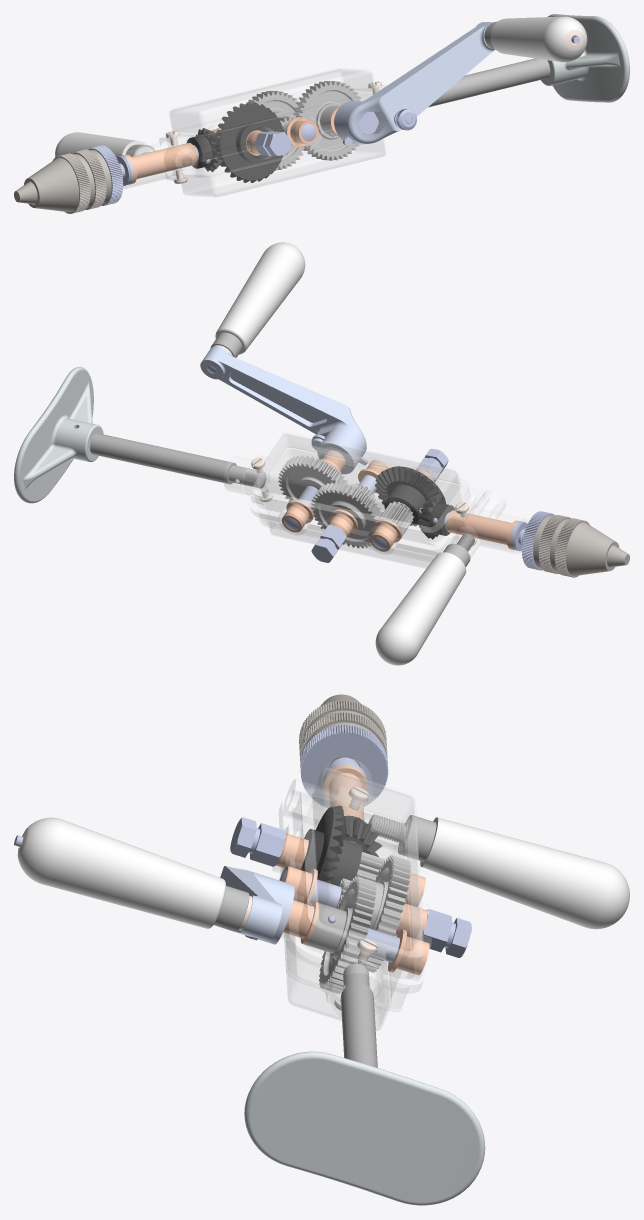
File: furadeira.glb
The picture shows the model from 3 angles, top to bottom: view 1: azimuth 30°, elevation 25°; view 2: azimuth 150°, elevation 25°; view 3: azimuth 270°, elevation 25°; orthographic projection. The views are drawn at different scales.
Parts seen in each view (by area): view 1: CORPO DE ALUMINIO-1, TAMPA-2, BRAÇO DA MANIVELA-1, ENCOSTO-1, TAMPA-1, CAPA DO MANDRIL-1, COROA Z 30-1, CABO DE MANIVELA-1, ENGREN MAIOR MOD 1 Z 43 a-1, HASTE DE APOIO-1, BUCHA DE MANDRIL-3, CABO DE SUSTENTAÇÃO-2 (+8 smaller); view 2: TAMPA-2, CORPO DE ALUMINIO-1, ENCOSTO-1, BRAÇO DA MANIVELA-1, CABO DE SUSTENTAÇÃO-2, CABO DE MANIVELA-1, CAPA DO MANDRIL-1, HASTE DE APOIO-1, TAMPA-1, ENGREN MENOR MOD 1 Z 43 a-1, COROA Z 30-1, ENGREN MAIOR MOD 1 Z 43 a-1 (+8 smaller); view 3: ENCOSTO-1, TAMPA-2, CORPO DE ALUMINIO-1, CABO DE SUSTENTAÇÃO-2, CABO DE MANIVELA-1, ENGREN MAIOR MOD 1 Z 43 a-1, CORPO ROSCADO-1, TAMPA-1, BRAÇO DA MANIVELA-1, HASTE DE APOIO-1, COROA Z 30-1, ENGREN MENOR MOD 1 Z 43 a-1 (+13 smaller).
Boxes of the visible parts, <box> form: CORPO DE ALUMINIO-1: <box>115,87,383,188</box>; TAMPA-2: <box>160,68,385,139</box>; BRAÇO DA MANIVELA-1: <box>334,22,494,143</box>; ENCOSTO-1: <box>541,14,629,102</box>; TAMPA-1: <box>167,139,385,196</box>; CAPA DO MANDRIL-1: <box>24,149,111,213</box>; COROA Z 30-1: <box>214,102,284,182</box>; CABO DE MANIVELA-1: <box>490,16,587,62</box>; ENGREN MAIOR MOD 1 Z 43 a-1: <box>293,81,361,160</box>; HASTE DE APOIO-1: <box>428,58,550,107</box>; BUCHA DE MANDRIL-3: <box>123,142,197,184</box>; CABO DE SUSTENTAÇÃO-2: <box>55,132,153,157</box>; TAMPA-2: <box>246,433,474,532</box>; CORPO DE ALUMINIO-1: <box>224,448,527,560</box>; ENCOSTO-1: <box>14,366,103,503</box>; BRAÇO DA MANIVELA-1: <box>200,346,366,474</box>; CABO DE SUSTENTAÇÃO-2: <box>375,552,466,665</box>; CABO DE MANIVELA-1: <box>215,242,305,354</box>; CAPA DO MANDRIL-1: <box>533,515,619,577</box>; HASTE DE APOIO-1: <box>90,433,266,488</box>; TAMPA-1: <box>259,495,476,568</box>; ENGREN MENOR MOD 1 Z 43 a-1: <box>311,482,383,548</box>; COROA Z 30-1: <box>375,466,445,526</box>; ENGREN MAIOR MOD 1 Z 43 a-1: <box>278,455,349,517</box>; ENCOSTO-1: <box>244,1051,485,1205</box>; TAMPA-2: <box>301,768,423,960</box>; CORPO DE ALUMINIO-1: <box>273,758,431,1017</box>; CABO DE SUSTENTAÇÃO-2: <box>398,817,629,929</box>; CABO DE MANIVELA-1: <box>18,817,225,928</box>; ENGREN MAIOR MOD 1 Z 43 a-1: <box>306,876,376,993</box>; CORPO ROSCADO-1: <box>300,724,388,808</box>; TAMPA-1: <box>281,870,402,1030</box>; BRAÇO DA MANIVELA-1: <box>220,866,294,944</box>; HASTE DE APOIO-1: <box>340,963,377,1067</box>; COROA Z 30-1: <box>300,805,362,905</box>; ENGREN MENOR MOD 1 Z 43 a-1: <box>357,855,411,972</box>.
Size of the model in its own units: 0.3801 by 0.1364 by 0.2358.
